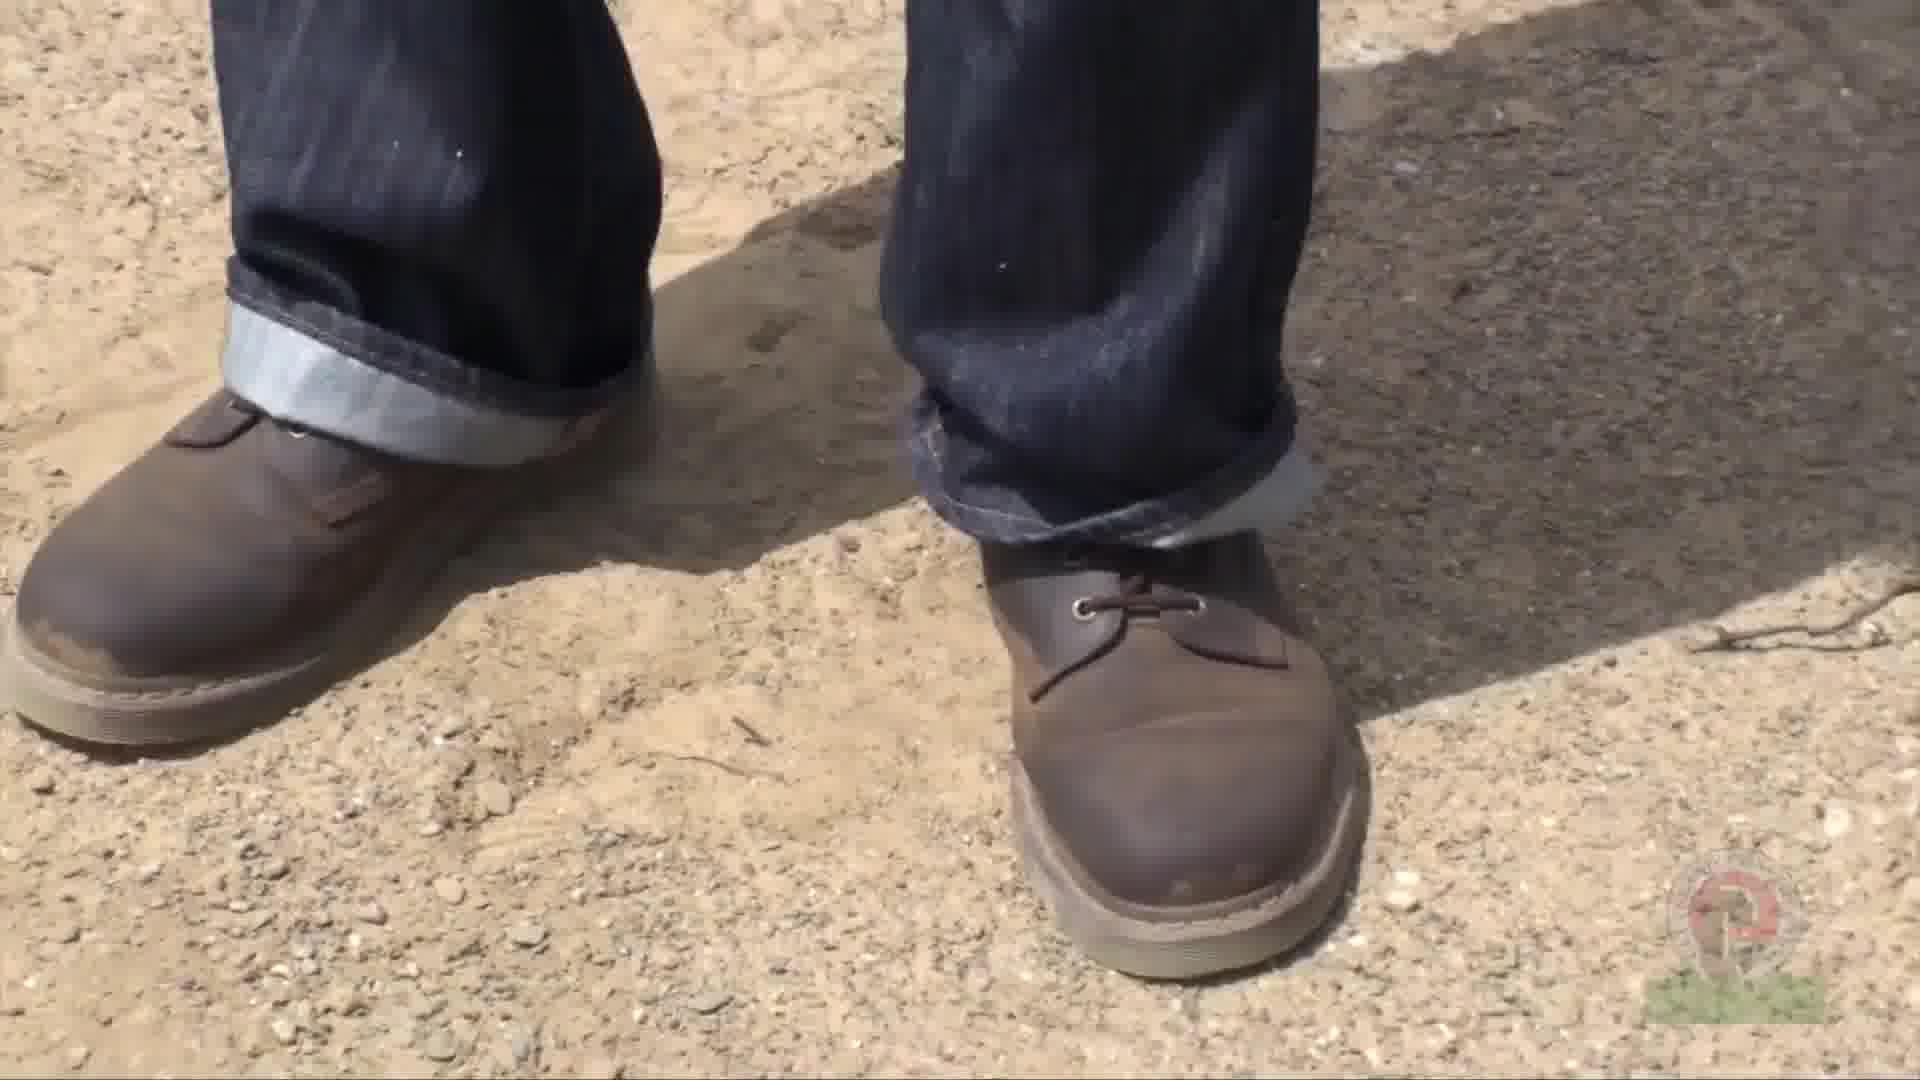safety boot: (7, 222, 1370, 1075)
